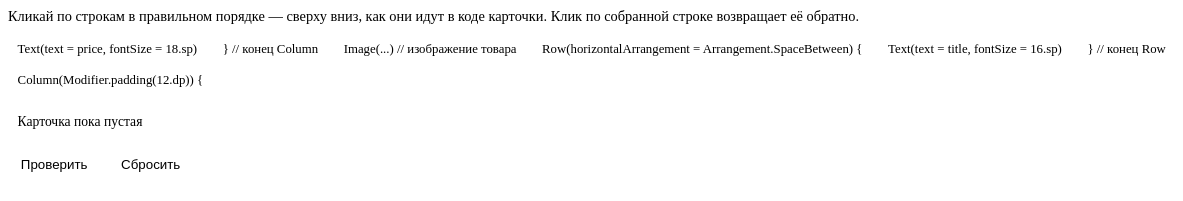
Scenario: клик по собранной строке возвращает её в черновик, «Сбросить» очищает всё
Click the button "Column(Modifier.padding(12.dp)) {": coordinates (110, 80) [8,68,213,93]
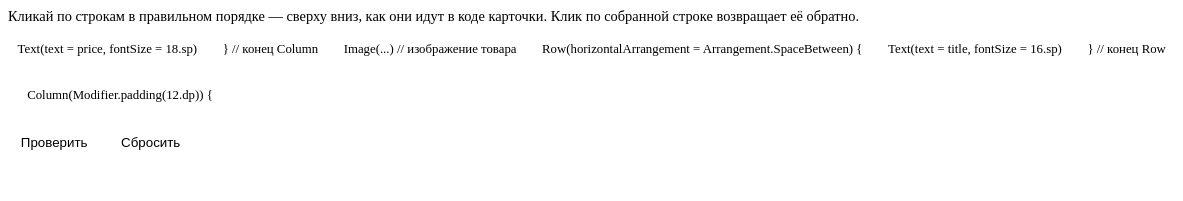
expect the button "Column(Modifier.padding(12.dp)) {" has class "casm-placed": met
Click the button "Column(Modifier.padding(12.dp)) {": coordinates (120, 96) [18,83,222,108]
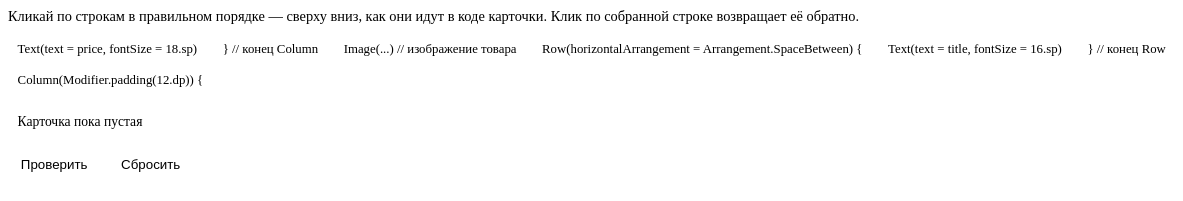
Click the button "Column(Modifier.padding(12.dp)) {": coordinates (110, 80) [8,68,213,93]
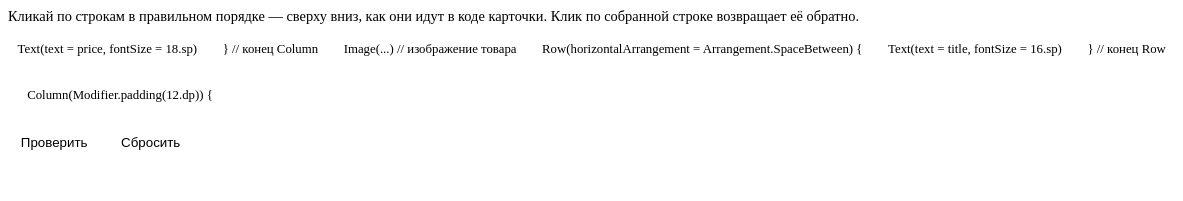
Click the button "Image(...) // изображение товара": coordinates (430, 49) [334,37,526,62]
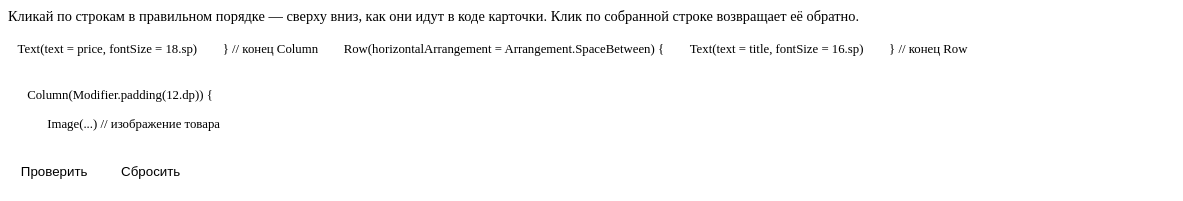
Click the button "Сбросить": coordinates (151, 171) [108,158,193,184]
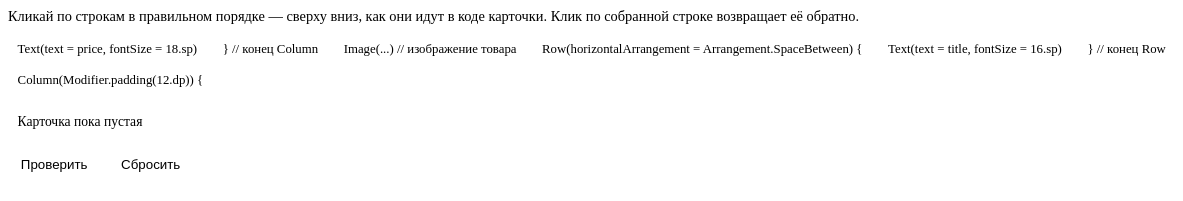
expect the text "Карточка пока пустая" is shown: met, box [18,114,142,130]
